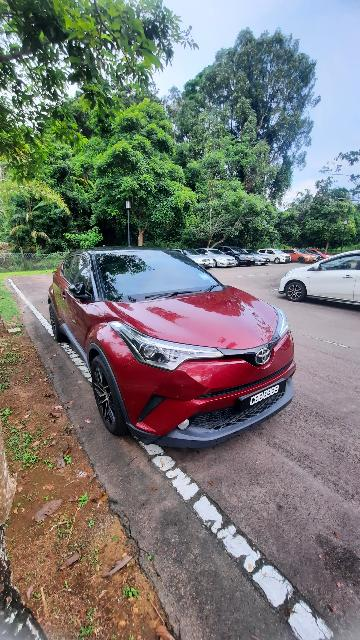License_Plate: (232, 378, 288, 410)
car: (47, 244, 297, 446)
